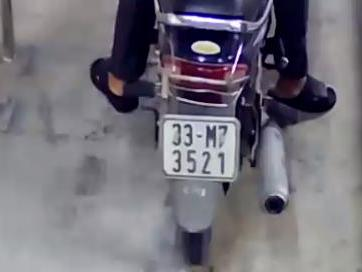num_plate: (158, 114, 239, 182)
